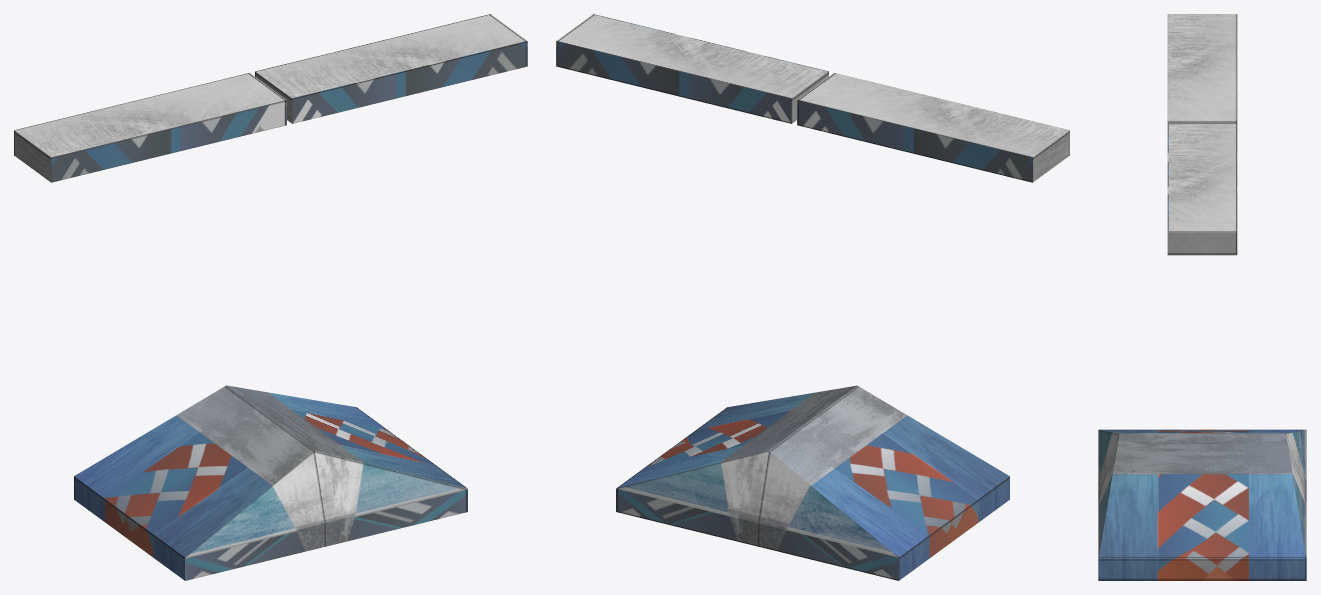
File: goat_1.obj
The picture shows the model from 3 angles, left to right: view 1: azimuth 30°, elevation 25°; view 2: azimuth 150°, elevation 25°; view 3: azimuth 270°, elevation 25°; orthographic projection. The views are drawn at different scales.
Parts seen in each view (by area): view 1: goat:Mesh; view 2: goat:Mesh; view 3: goat:Mesh.
Boxes of the visible parts, x1,y1,x2,y2 form: goat:Mesh: (14, 14, 527, 580); goat:Mesh: (556, 14, 1069, 580); goat:Mesh: (1098, 14, 1306, 580).
Bounding box in the file's own units: 220 × 185 × 88.86.
1 material, 1 textured.
